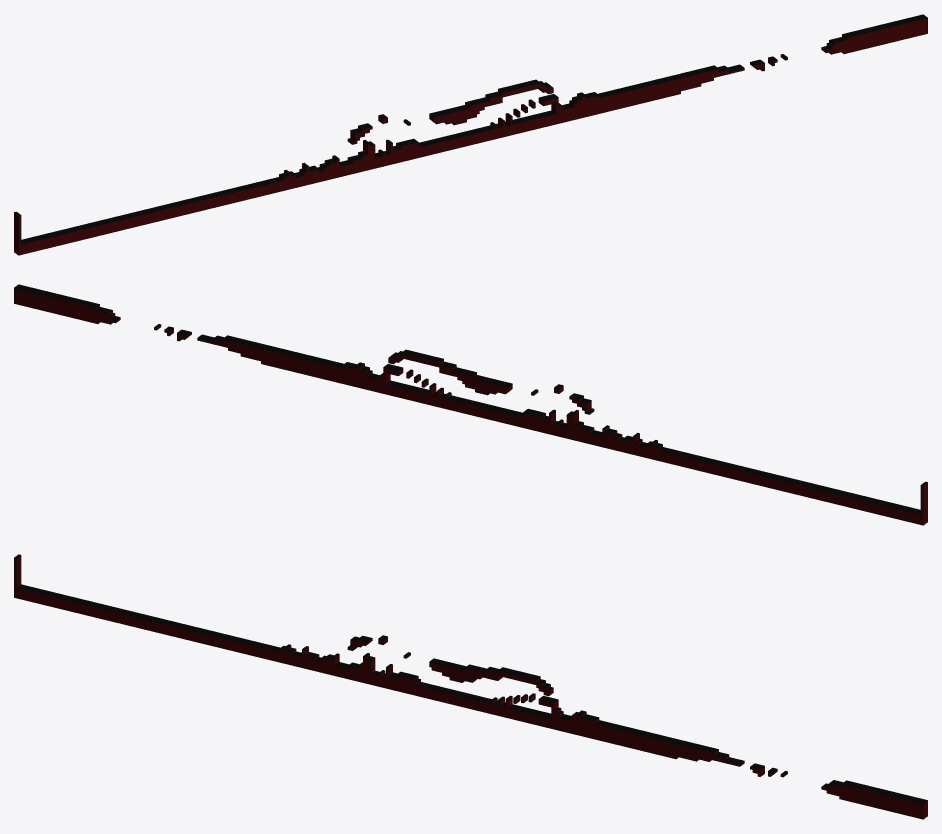
The model's file is Luna4VermelhoSolo.glb.
3 views of the same model, one above another, from view 1: azimuth 30°, elevation 25°; view 2: azimuth 150°, elevation 25°; view 3: azimuth 330°, elevation 25° (orthographic).
Parts seen in each view (by area): view 1: Setor_5, Setor_6, Setor_4, Setor_7, Setor_10, Setor_0, Setor_3, Setor_2, Setor_1, Setor_8; view 2: Setor_5, Setor_6, Setor_4, Setor_7, Setor_10, Setor_0, Setor_3, Setor_2, Setor_1, Setor_8; view 3: Setor_6, Setor_5, Setor_4, Setor_7, Setor_10, Setor_0, Setor_3, Setor_1, Setor_2, Setor_8.
Part boxes in pixels (x1=…): Setor_5: x1=422, y1=87, x2=507, y2=155; Setor_6: x1=503, y1=79, x2=589, y2=135; Setor_4: x1=340, y1=114, x2=426, y2=175; Setor_7: x1=585, y1=77, x2=670, y2=116; Setor_10: x1=829, y1=17, x2=915, y2=53; Setor_0: x1=14, y1=211, x2=99, y2=255; Setor_3: x1=259, y1=155, x2=344, y2=195; Setor_2: x1=177, y1=182, x2=263, y2=215; Setor_1: x1=96, y1=202, x2=181, y2=235; Setor_8: x1=666, y1=64, x2=744, y2=96; Setor_5: x1=434, y1=357, x2=519, y2=425; Setor_6: x1=352, y1=349, x2=438, y2=405; Setor_4: x1=515, y1=384, x2=601, y2=445; Setor_7: x1=271, y1=347, x2=356, y2=386; Setor_10: x1=26, y1=287, x2=112, y2=323; Setor_0: x1=842, y1=481, x2=927, y2=525; Setor_3: x1=597, y1=425, x2=682, y2=465; Setor_2: x1=678, y1=452, x2=764, y2=485; Setor_1: x1=760, y1=472, x2=845, y2=505; Setor_8: x1=197, y1=334, x2=275, y2=366; Setor_6: x1=503, y1=668, x2=588, y2=736; Setor_5: x1=421, y1=658, x2=507, y2=716; Setor_4: x1=340, y1=635, x2=425, y2=696; Setor_7: x1=584, y1=715, x2=670, y2=756; Setor_10: x1=829, y1=780, x2=914, y2=816; Setor_0: x1=14, y1=554, x2=99, y2=617; Setor_3: x1=258, y1=643, x2=344, y2=677; Setor_1: x1=95, y1=603, x2=181, y2=637; Setor_2: x1=177, y1=623, x2=262, y2=657; Setor_8: x1=666, y1=737, x2=744, y2=766.
Bounding box in the file's own units: 371 × 18.72 × 3.28.
1 material, 1 textured.
